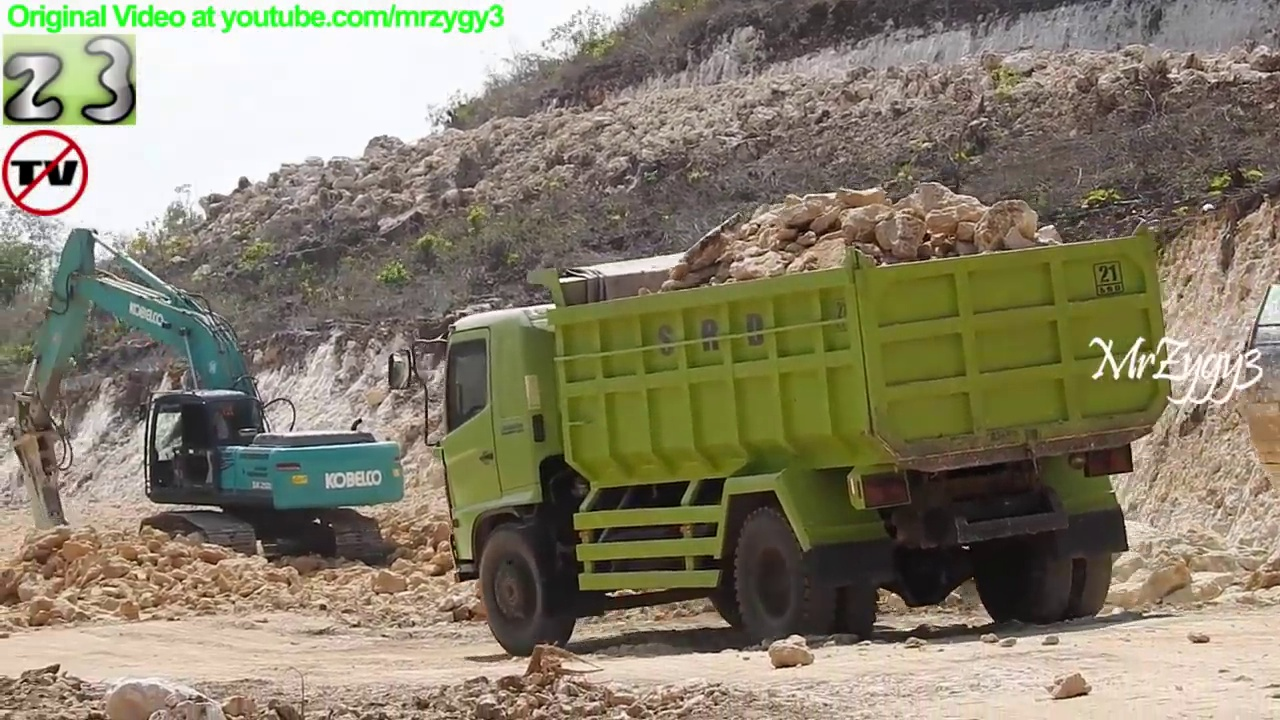excavator: (1238, 267, 1280, 493)
excavator breaker: (3, 223, 410, 575)
truck: (384, 214, 1182, 658)
